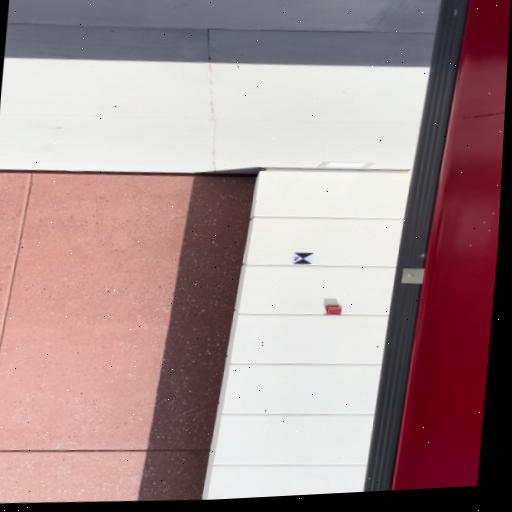target2: (292, 251, 314, 265)
